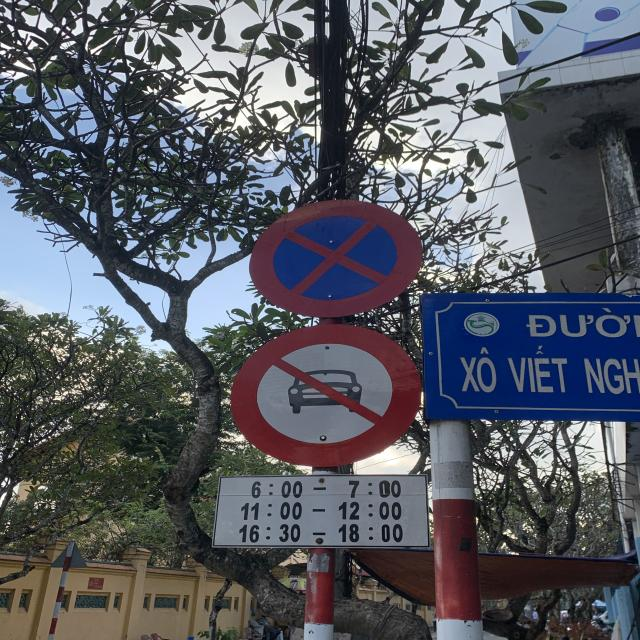Cam_Dung_Va_Dau_Xe: (250, 200, 423, 316)
Cam_O_To: (229, 325, 424, 467)
